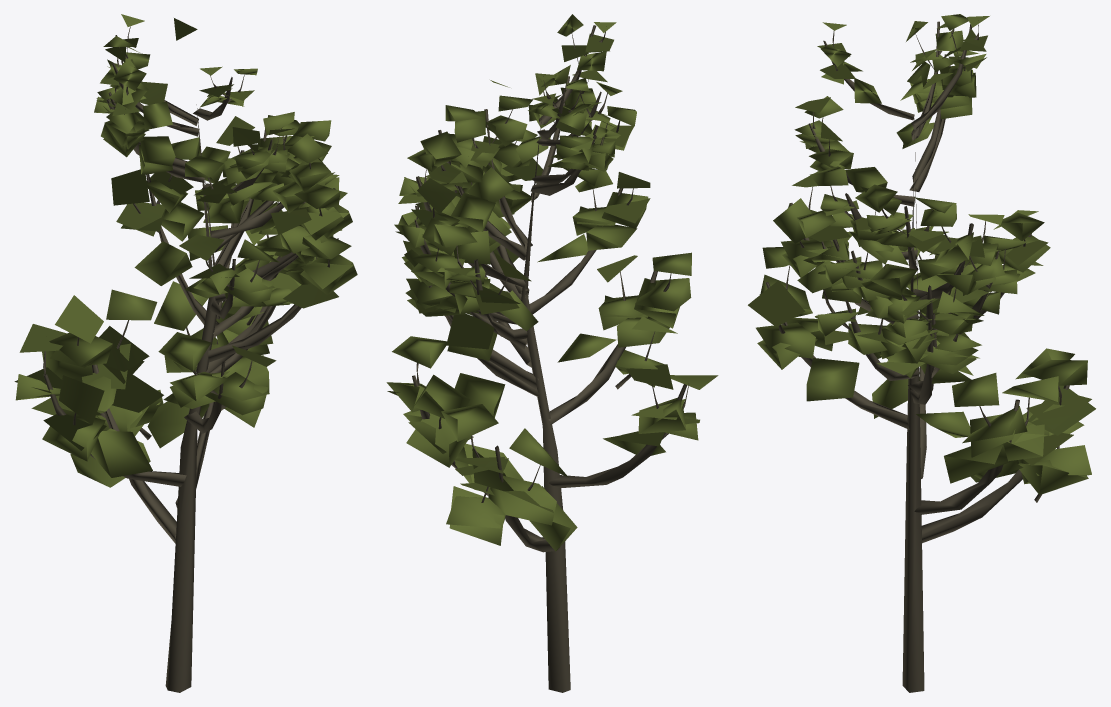
The model's file is Tree_BlackWillow_002.fbx.
The picture shows the model from 3 angles, left to right: view 1: azimuth 30°, elevation 25°; view 2: azimuth 150°, elevation 25°; view 3: azimuth 270°, elevation 25°; orthographic projection. The views are drawn at different scales.
Visible parts, largest first — view 1: Tree_BlackWillow.002; view 2: Tree_BlackWillow.002; view 3: Tree_BlackWillow.002.
Boxes of the visible parts, x1,y1,x2,y2 form: Tree_BlackWillow.002: [14, 14, 357, 692]; Tree_BlackWillow.002: [386, 14, 718, 692]; Tree_BlackWillow.002: [748, 14, 1095, 692].
Size of the model in its own units: 1254 by 2577 by 1231.
